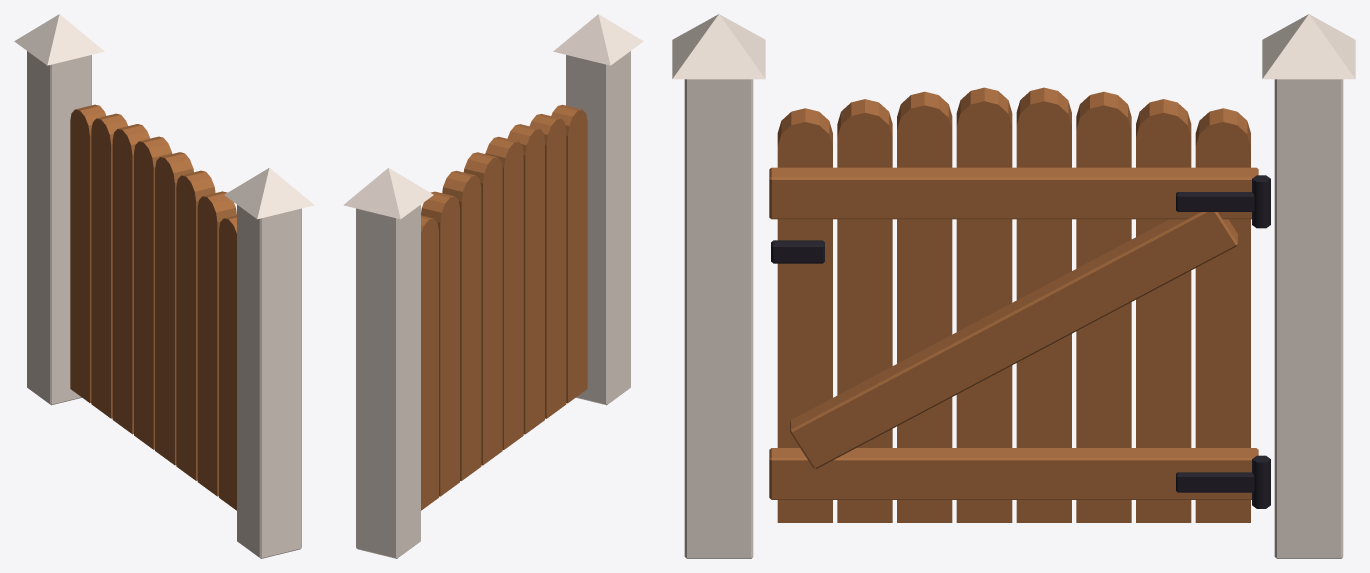
The picture shows the model from 3 angles, left to right: view 1: azimuth 30°, elevation 25°; view 2: azimuth 150°, elevation 25°; view 3: azimuth 270°, elevation 25°; orthographic projection. The views are drawn at different scales.
Visible parts, largest first — view 1: gate, body; view 2: gate, body; view 3: gate, body, object 1.
Boxes of the visible parts, x1,y1,x2,y2 form: gate: (70, 104, 236, 510); body: (14, 14, 314, 558); gate: (421, 104, 587, 510); body: (343, 14, 643, 558); gate: (769, 87, 1258, 522); body: (672, 14, 1355, 558); object 1: (1252, 175, 1270, 508).
Bounding box in the file's own units: 0.2975 × 1.63 × 1.9.
